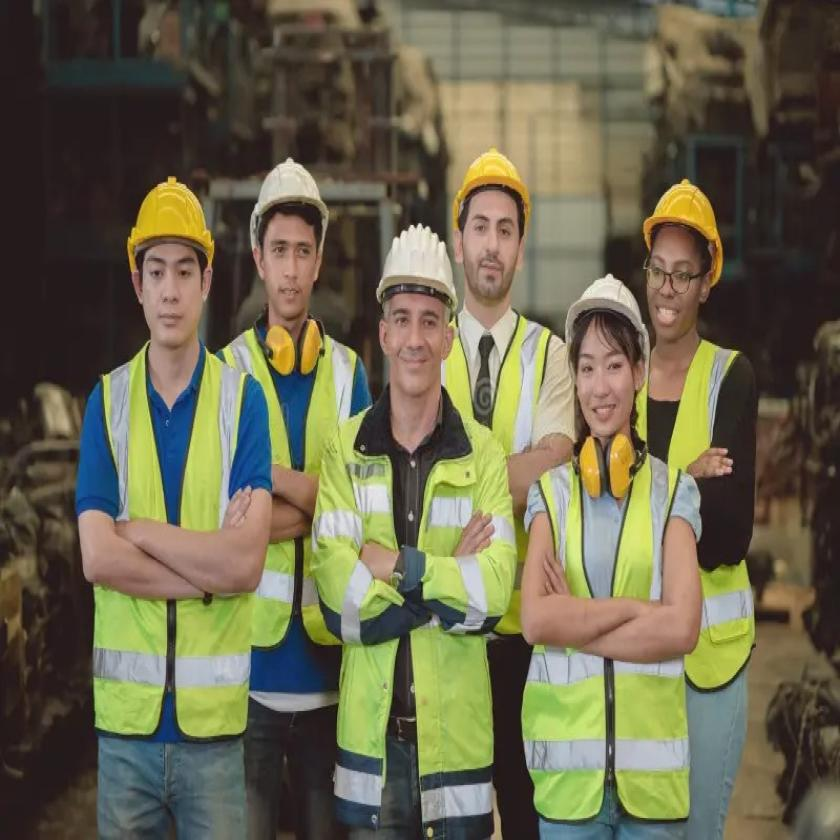Con_casco: (563, 272, 658, 455), (378, 220, 460, 414), (132, 173, 218, 351), (258, 154, 334, 342), (647, 173, 725, 345), (457, 142, 534, 314)
